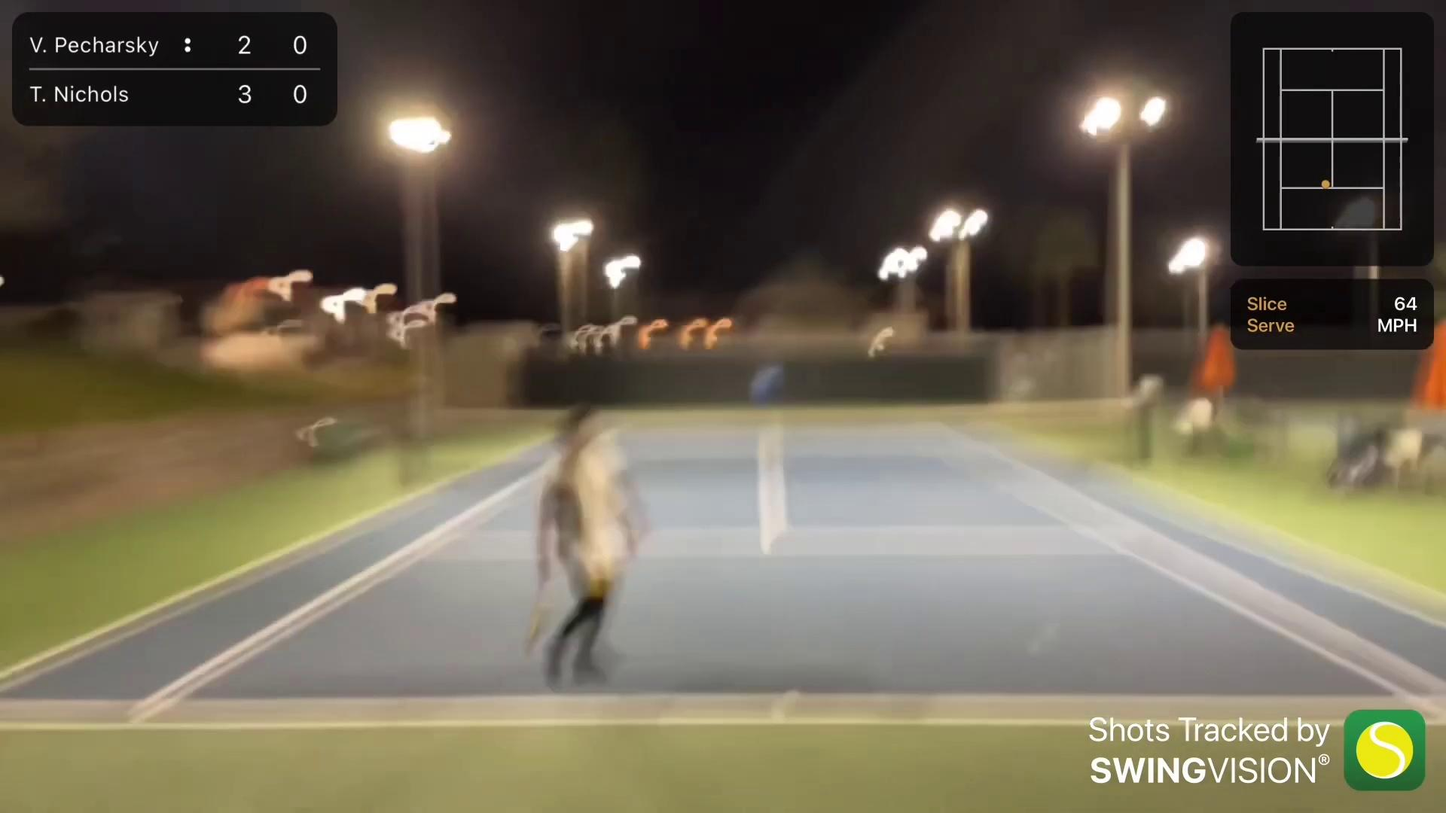ball: (0, 278, 5, 285)
